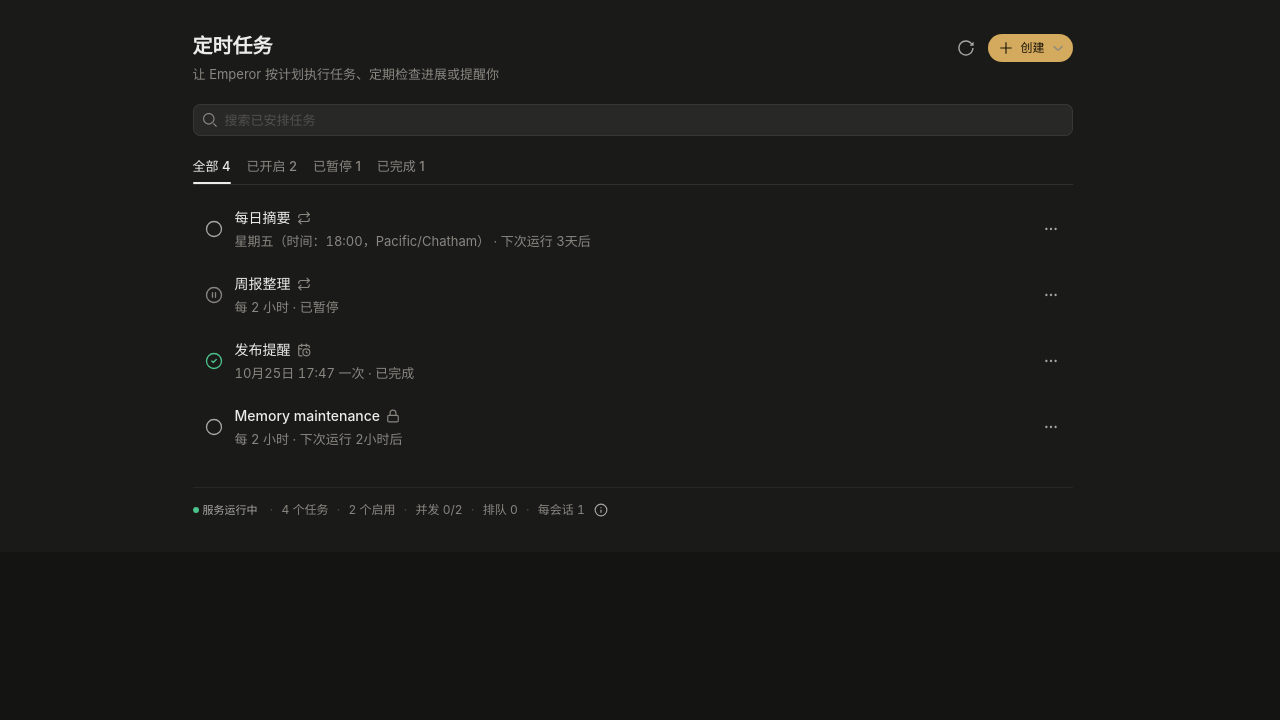
Scenario: SchedulerPage › keeps the service note behind ⓘ (UI-S08 5)
Expected: the element with test id "scheduler-summary" shows "服务运行中", [202,503,258,517]
Expected: the text "最多补跑一次" is not shown
Click the button named "关于定时任务服务" at (601, 510), box [591,500,611,520]
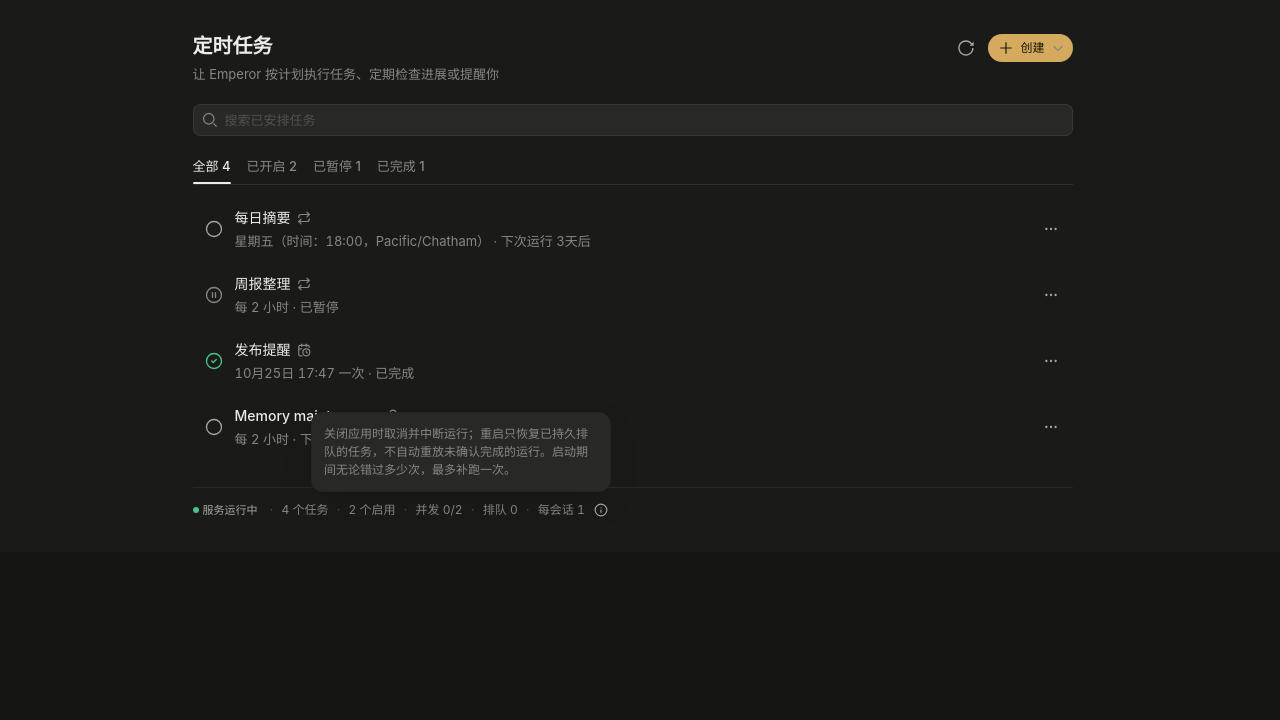
Expected: the text "最多补跑一次" is shown, [324,426,588,477]
